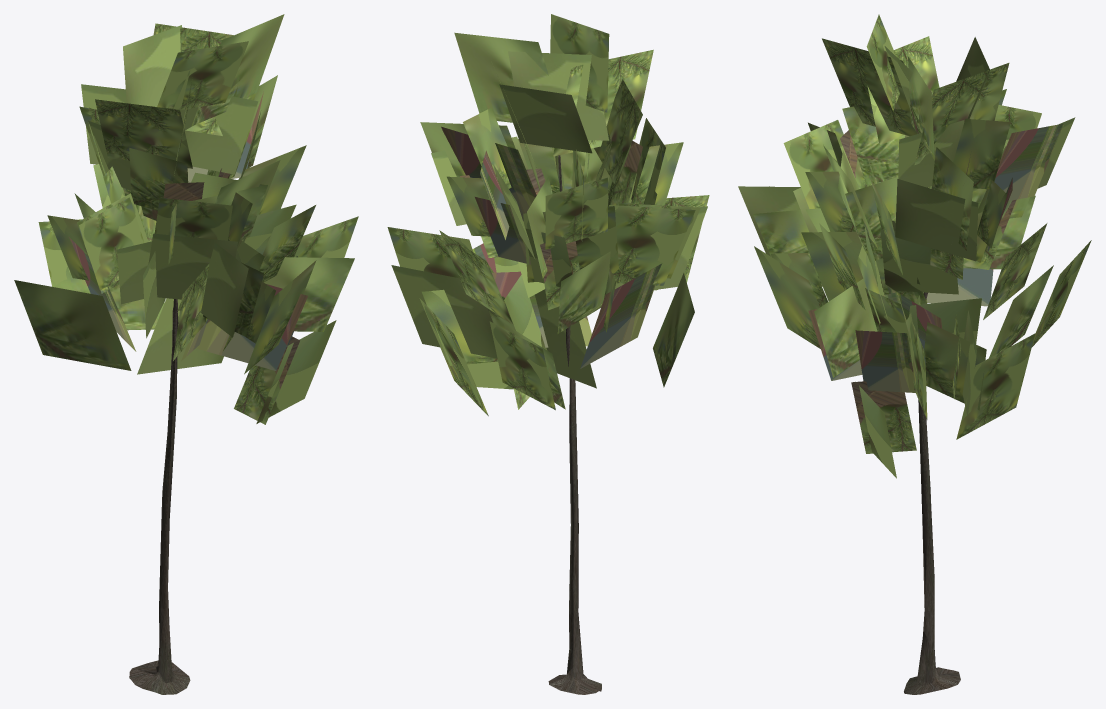
The model's file is fir-far.glb.
The picture shows the model from 3 angles, left to right: view 1: azimuth 30°, elevation 25°; view 2: azimuth 150°, elevation 25°; view 3: azimuth 270°, elevation 25°; orthographic projection. The views are drawn at different scales.
Size of the model in its own units: 8.04 by 15.26 by 7.28.
Materials: 2 (2 with a texture image).
